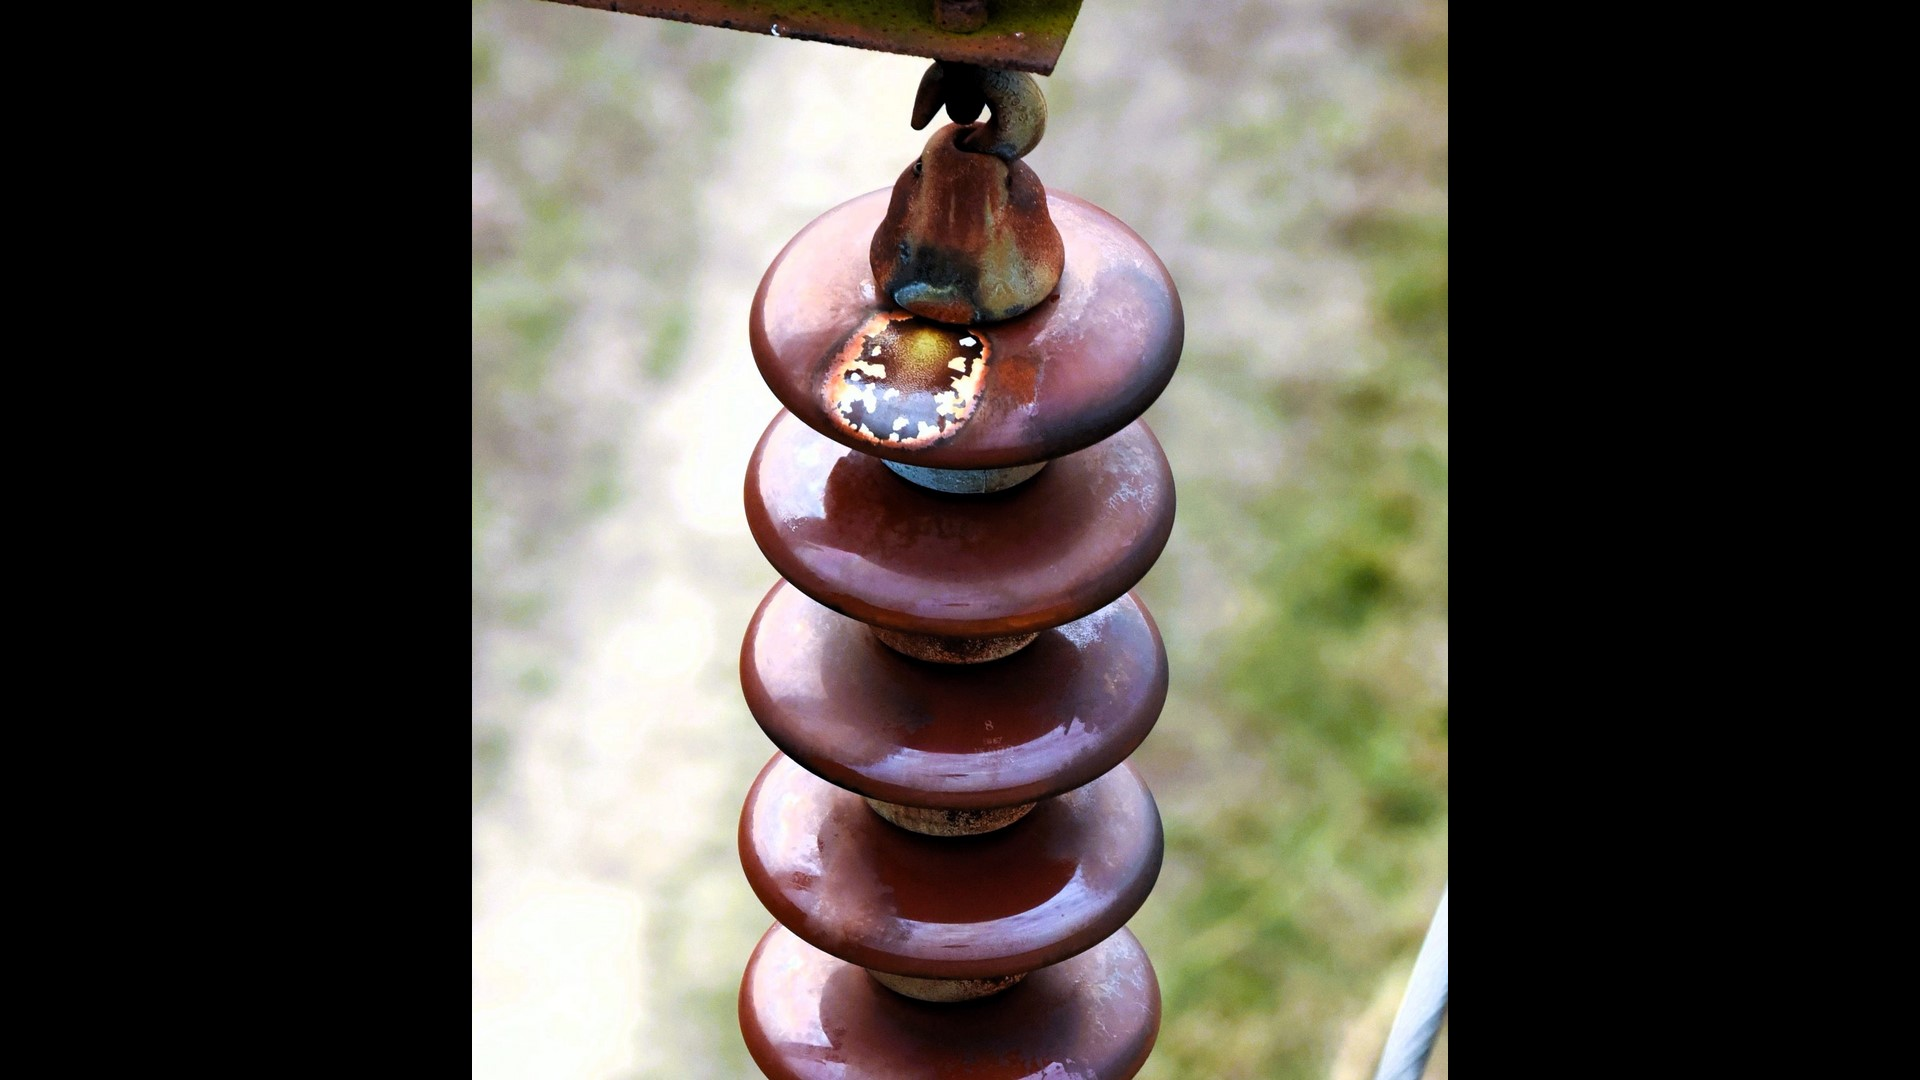Insulator flashover: (727, 175, 1197, 476)
